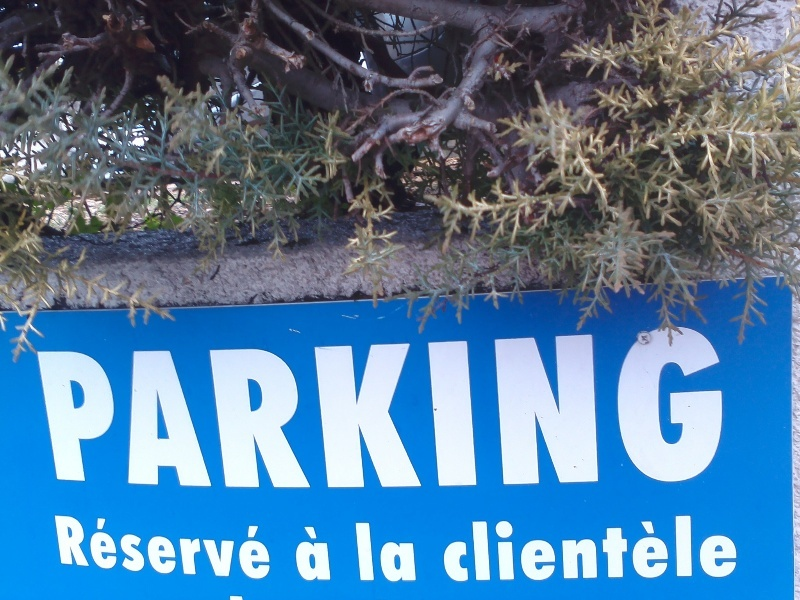text: (33, 322, 48, 490), (49, 322, 64, 490), (65, 322, 80, 490), (81, 322, 96, 490), (97, 322, 112, 490), (113, 322, 128, 490), (129, 322, 144, 490), (145, 322, 160, 490), (161, 322, 176, 490), (177, 322, 192, 490), (193, 322, 208, 490), (209, 322, 224, 490), (225, 322, 240, 490), (241, 322, 256, 490), (257, 322, 272, 490), (273, 322, 288, 490), (289, 322, 304, 490), (305, 322, 320, 490), (321, 322, 336, 490), (337, 322, 352, 490), (353, 322, 368, 490), (369, 322, 384, 490), (385, 322, 400, 490), (401, 322, 416, 490), (417, 322, 432, 490), (433, 322, 448, 490), (449, 322, 464, 490), (465, 322, 480, 490), (481, 322, 496, 490), (497, 322, 512, 490), (513, 322, 528, 490), (529, 322, 544, 490), (545, 322, 560, 490), (561, 322, 576, 490), (577, 322, 592, 490), (593, 322, 608, 490), (609, 322, 624, 490), (625, 322, 640, 490), (641, 322, 656, 490), (657, 322, 672, 490), (673, 322, 688, 490), (689, 322, 704, 490), (705, 322, 720, 490), (449, 513, 464, 585), (465, 513, 480, 585), (481, 513, 496, 585), (497, 513, 512, 585), (513, 513, 528, 585), (529, 513, 544, 585), (545, 513, 560, 585), (561, 513, 576, 585), (577, 513, 592, 585), (593, 513, 608, 585), (609, 513, 624, 585), (625, 513, 640, 585), (641, 513, 656, 585), (657, 513, 672, 585), (673, 513, 688, 585), (689, 513, 704, 585), (705, 513, 720, 585), (721, 513, 736, 585), (65, 512, 80, 583), (81, 512, 96, 583), (97, 512, 112, 583), (113, 512, 128, 583), (129, 512, 144, 583), (145, 512, 160, 583), (161, 512, 176, 583), (177, 512, 192, 583), (193, 512, 208, 583), (209, 512, 224, 583), (225, 512, 240, 583), (241, 512, 256, 583), (257, 512, 272, 583), (721, 322, 727, 490), (369, 520, 384, 585), (385, 520, 400, 585), (401, 520, 416, 585), (354, 520, 368, 585), (305, 526, 320, 584), (52, 512, 64, 583), (291, 526, 304, 584), (321, 526, 333, 584), (441, 513, 448, 585), (737, 513, 742, 585), (273, 512, 274, 583), (417, 520, 418, 585)
